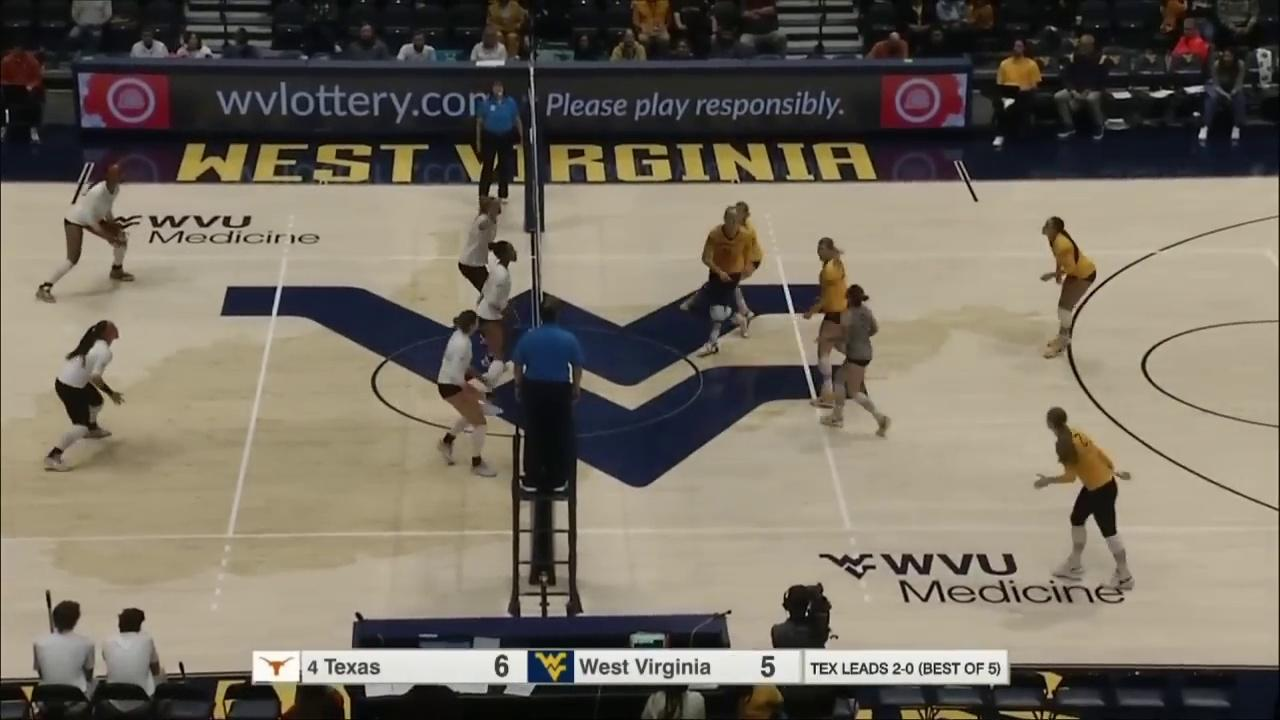player: (1043, 407, 1135, 590), (32, 157, 137, 301), (42, 320, 126, 473), (433, 307, 498, 479), (809, 233, 867, 413), (679, 202, 764, 322), (823, 285, 890, 433), (1037, 215, 1099, 361), (468, 240, 521, 410), (699, 206, 751, 353), (459, 195, 502, 363)
refree: (516, 295, 578, 494), (472, 82, 525, 212)
